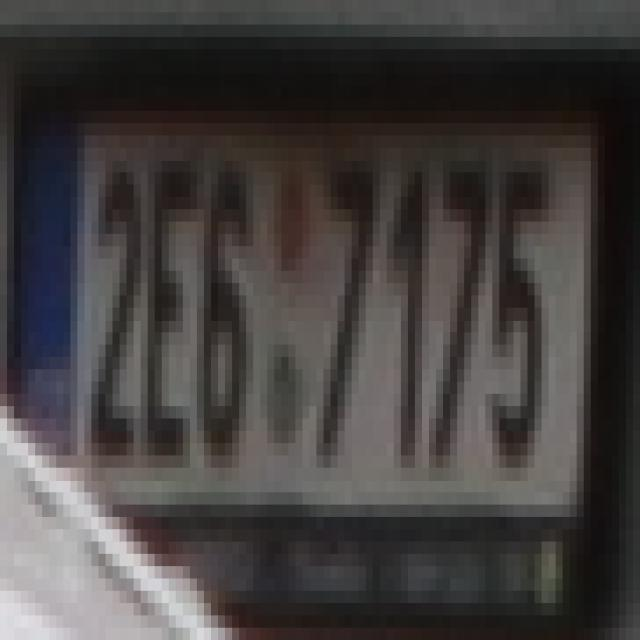2: (77, 172, 134, 456)
5: (485, 160, 549, 468)
6: (197, 160, 253, 443)
7: (316, 172, 373, 456), (429, 172, 485, 456)
E: (148, 160, 197, 468)
